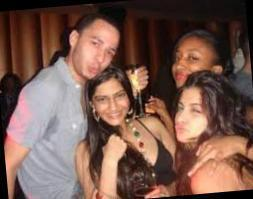Drunk: (77, 19, 119, 79), (175, 89, 212, 143), (173, 37, 212, 86), (93, 81, 131, 125)
